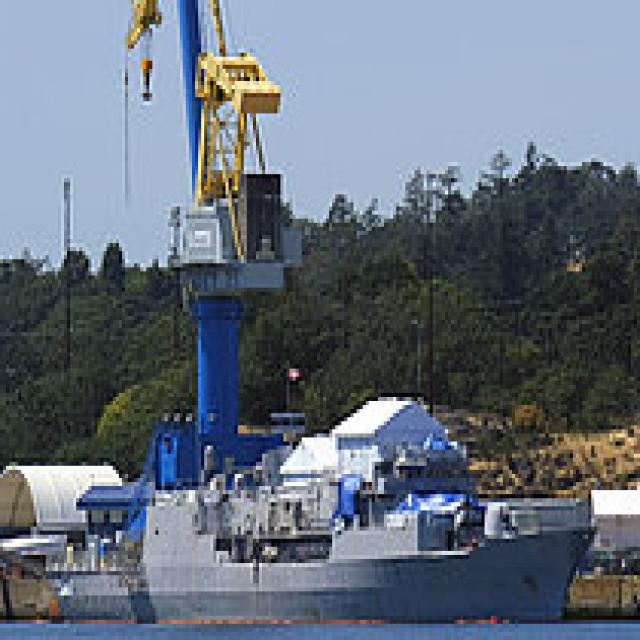Warship: (147, 425, 600, 624)
